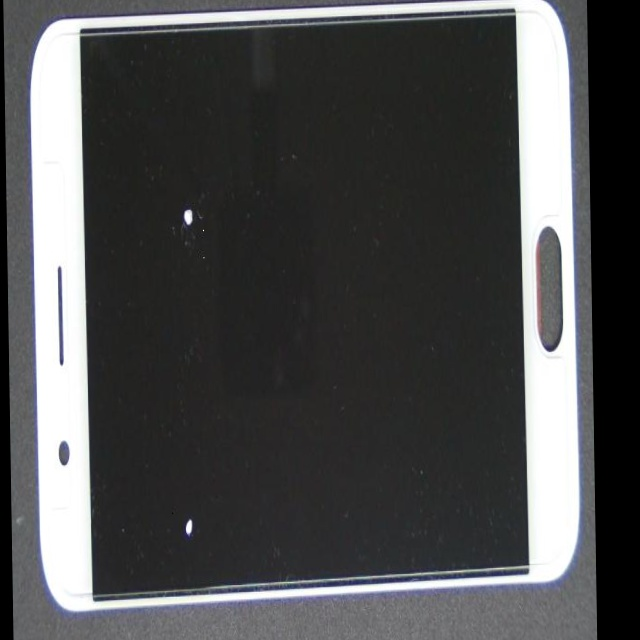stain: (67, 232, 256, 640), (89, 93, 264, 429)
